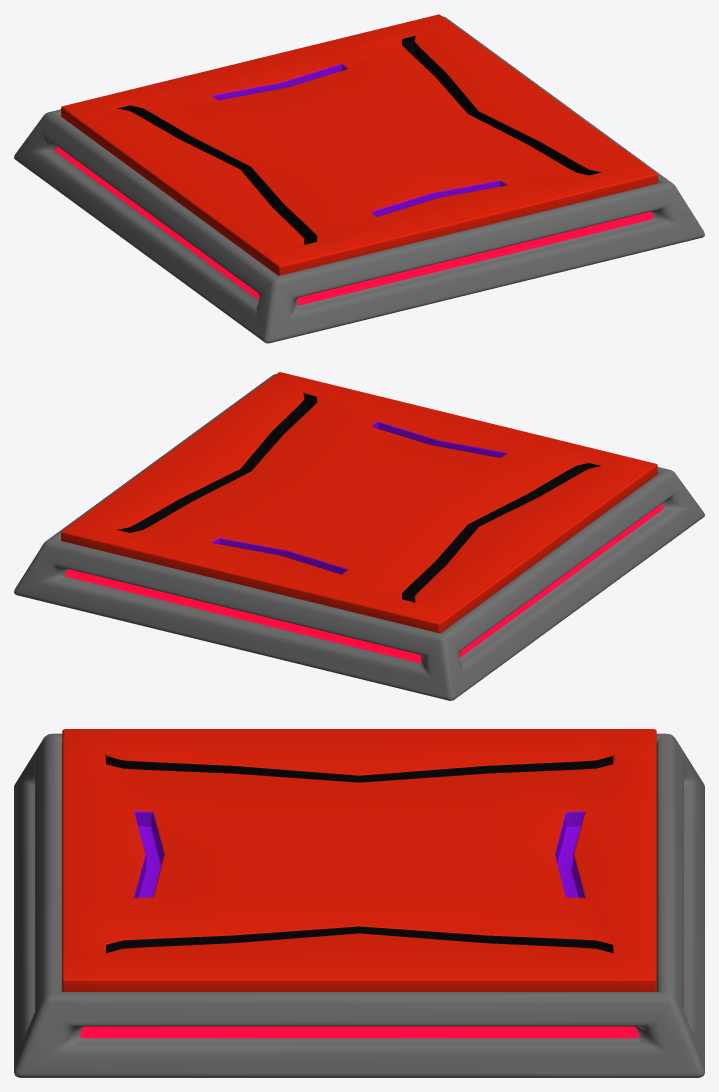
Rendered from PlacaDeP.fbx.
The picture shows the model from 3 angles, top to bottom: view 1: azimuth 30°, elevation 25°; view 2: azimuth 150°, elevation 25°; view 3: azimuth 270°, elevation 25°; orthographic projection. The views are drawn at different scales.
Visible parts, largest first — view 1: PlacaP, BasePlacaP; view 2: PlacaP, BasePlacaP; view 3: PlacaP, BasePlacaP.
Boxes of the visible parts, <box> form: PlacaP: <box>61,14,657,275</box>; BasePlacaP: <box>14,16,704,343</box>; PlacaP: <box>61,372,657,633</box>; BasePlacaP: <box>14,374,704,700</box>; PlacaP: <box>62,729,656,991</box>; BasePlacaP: <box>14,733,704,1077</box>.
Bounding box in the file's own units: 795 × 101 × 795.
